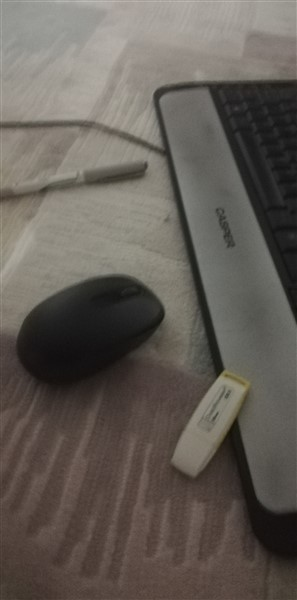flash disk: (170, 371, 260, 486)
klavye: (157, 68, 297, 587)
mouse: (12, 267, 175, 394)
pilot kalem: (1, 157, 157, 207)
